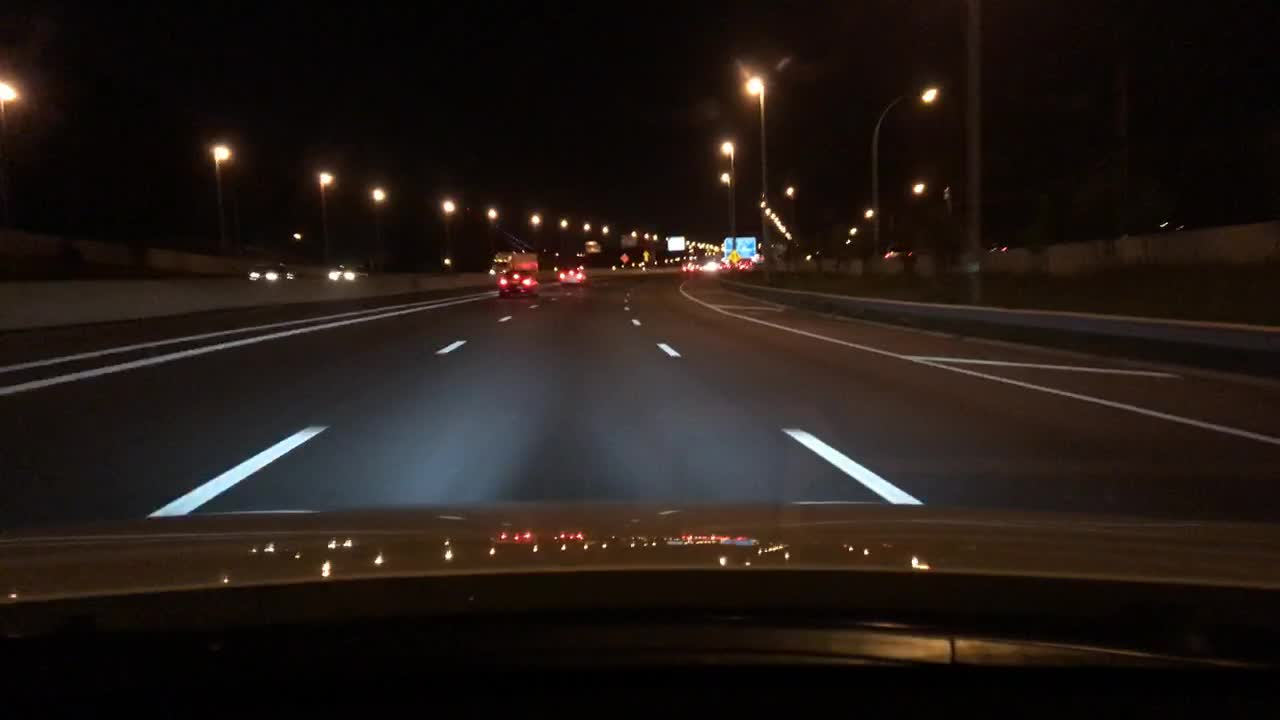car: (247, 258, 296, 282), (487, 253, 539, 272), (497, 272, 536, 296), (328, 262, 367, 280), (882, 239, 912, 260), (560, 266, 586, 287), (986, 239, 1012, 255), (737, 256, 753, 269), (805, 248, 824, 258), (682, 262, 692, 275), (694, 259, 703, 271), (719, 264, 731, 271)
traffic sign: (721, 235, 756, 259), (666, 235, 686, 251), (728, 246, 741, 266), (617, 235, 637, 247), (617, 252, 628, 263), (643, 247, 649, 259)
